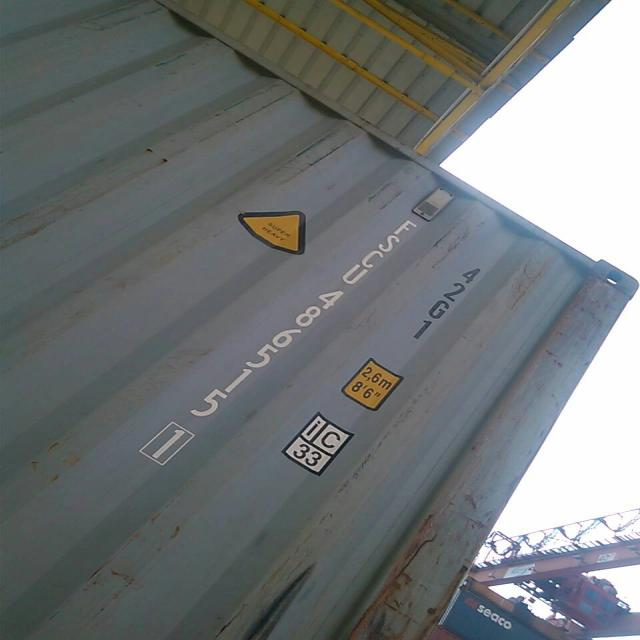rust: (335, 499, 494, 640), (520, 259, 638, 374)
